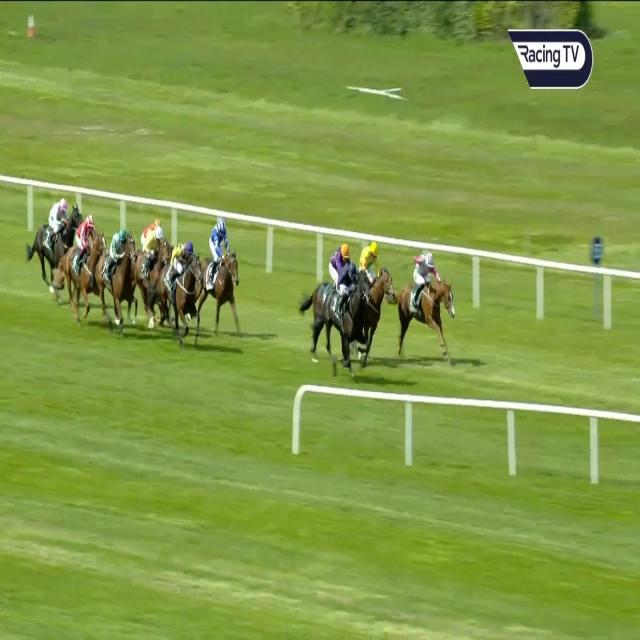horses-racing: (398, 252, 458, 356), (310, 266, 368, 367), (196, 219, 240, 335), (61, 216, 108, 320), (96, 226, 135, 328), (132, 226, 171, 328), (159, 241, 200, 328), (34, 200, 80, 274), (361, 241, 387, 324), (326, 243, 356, 276), (137, 216, 163, 243)
